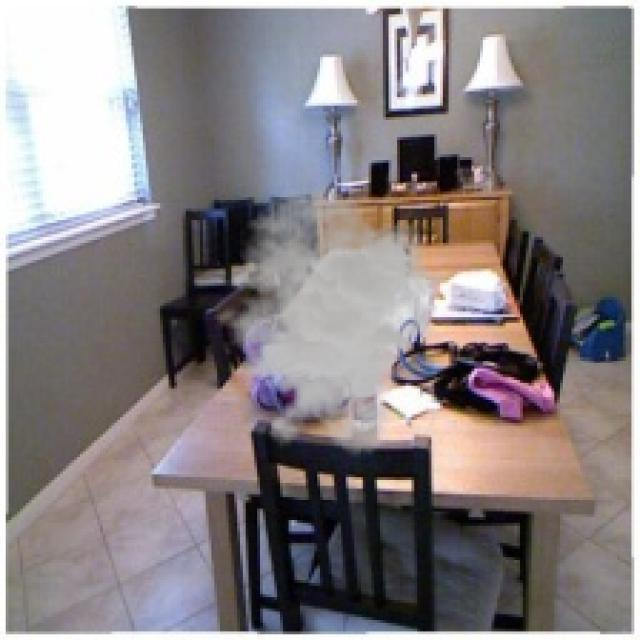Smoke: (203, 186, 446, 457)
